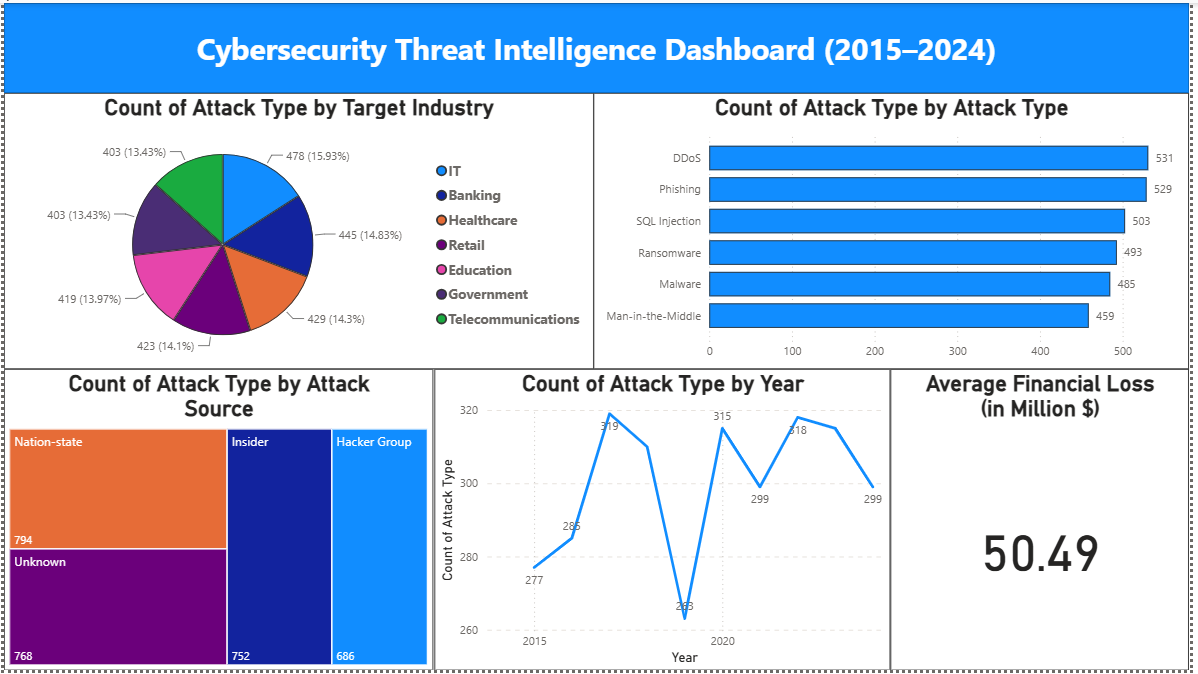

The dashboard page shown, as its layout file describes it:
{"tool":"powerbi","page":{"name":"Page 1","canvas":[1280,720],"ordinal":0},"visuals":[{"type":"shape","box":[0,0,1279.2,97.2],"z":0},{"type":"pieChart","fields":{"Category":["Global_Cybersecurity_Threats_2015-2024.Target Industry"],"Y":["CountNonNull(Global_Cybersecurity_Threats_2015-2024.Attack Type)"]},"box":[0,97.2,636.4,297.9],"z":1000},{"type":"card","title":"Average Financial Loss (in Million $)","fields":{"Values":["Avg(Global_Cybersecurity_Threats_2015-2024.Financial Loss (in Million $))"]},"box":[957,395.1,322.2,325.5],"z":2000},{"type":"treemap","fields":{"Values":["CountNonNull(Global_Cybersecurity_Threats_2015-2024.Attack Type)"],"Details":["Global_Cybersecurity_Threats_2015-2024.Attack Source"]},"box":[0,395.1,463.1,325.5],"z":3000},{"type":"clusteredBarChart","fields":{"Category":["Global_Cybersecurity_Threats_2015-2024.Attack Type"],"Y":["CountNonNull(Global_Cybersecurity_Threats_2015-2024.Attack Type)"]},"box":[636.4,97.2,642.8,297.9],"z":4000},{"type":"lineChart","fields":{"Category":["Global_Cybersecurity_Threats_2015-2024.Year"],"Y":["CountNonNull(Global_Cybersecurity_Threats_2015-2024.Attack Type)"]},"box":[464.7,395.1,492.2,325.5],"z":5000}]}

Visuals, with their boxes in screenshot pixels (x1, y1, x2, y2), scaled from the page's 1280x720 canvas onto the 1198x674 screenshot:
shape: pyautogui.locateOnScreen(0, 0, 1197, 91)
pieChart - Global_Cybersecurity_Threats_2015-2024.Target Industry x CountNonNull(Global_Cybersecurity_Threats_2015-2024.Attack Type): pyautogui.locateOnScreen(0, 91, 596, 370)
"Average Financial Loss (in Million $)" card: pyautogui.locateOnScreen(896, 370, 1197, 673)
treemap - CountNonNull(Global_Cybersecurity_Threats_2015-2024.Attack Type) x Global_Cybersecurity_Threats_2015-2024.Attack Source: pyautogui.locateOnScreen(0, 370, 433, 673)
clusteredBarChart - Global_Cybersecurity_Threats_2015-2024.Attack Type x CountNonNull(Global_Cybersecurity_Threats_2015-2024.Attack Type): pyautogui.locateOnScreen(596, 91, 1197, 370)
lineChart - Global_Cybersecurity_Threats_2015-2024.Year x CountNonNull(Global_Cybersecurity_Threats_2015-2024.Attack Type): pyautogui.locateOnScreen(435, 370, 896, 673)
